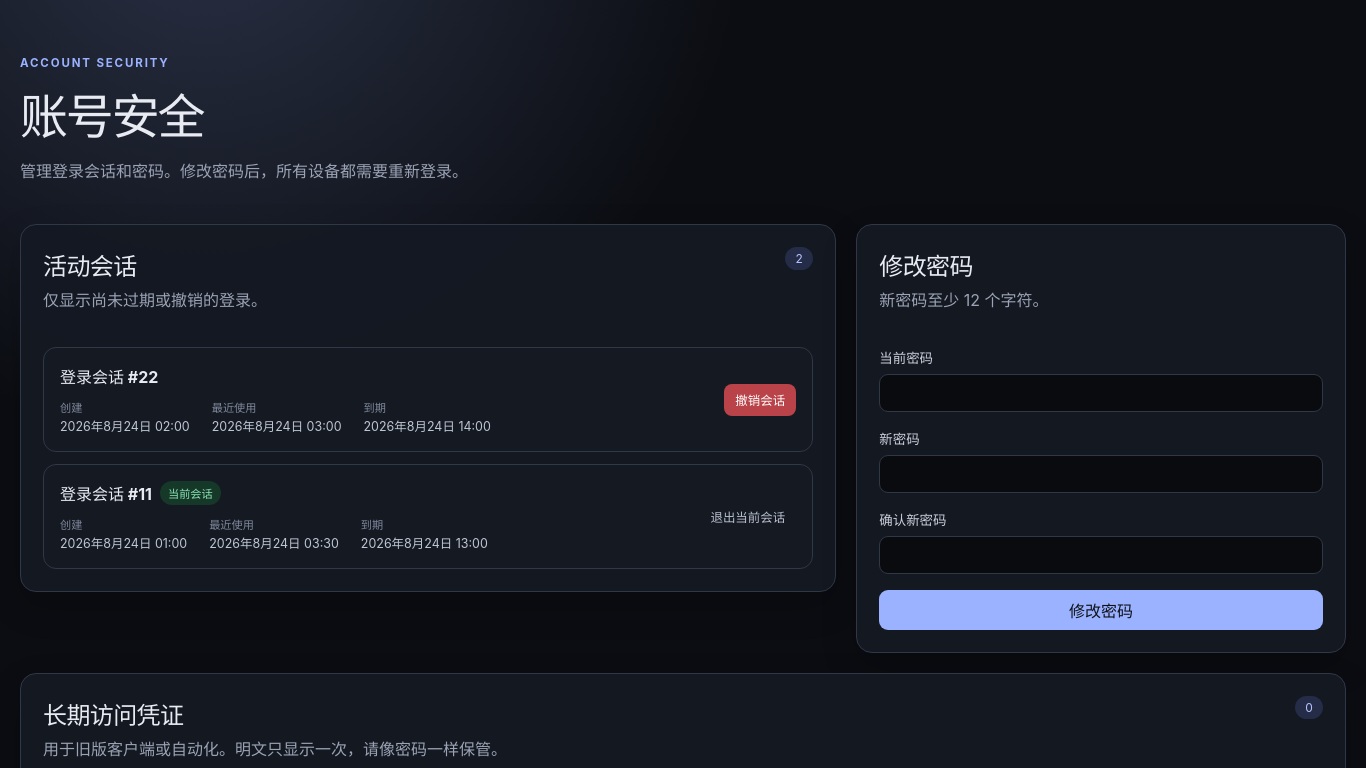
Test: AccountSecurityPage › lists active sessions and revokes another session without signing out the current one
Expected: the text "当前会话" is shown, [160,481,221,505]
Click the button "撤销会话".
click(760, 400)  # box [724,384,796,416]
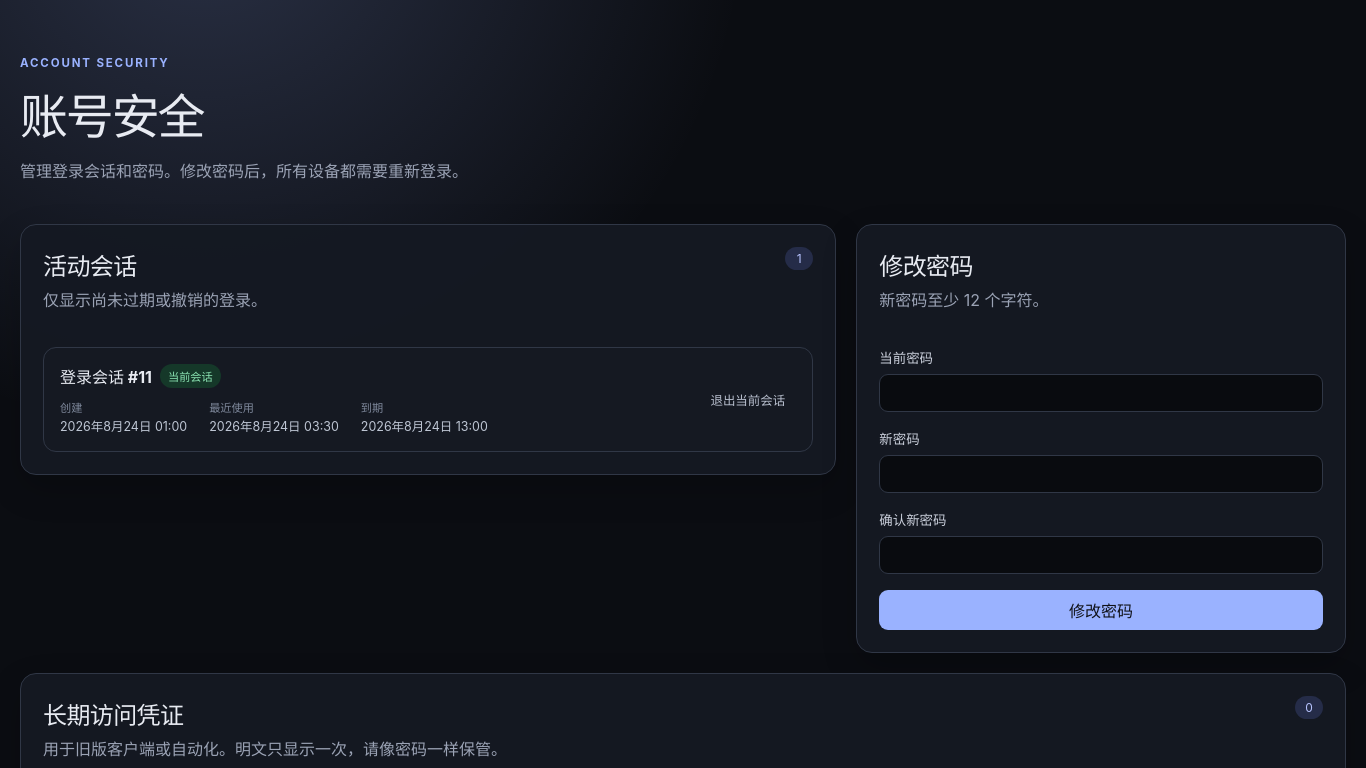
Expected: the element with test id "account-session-11" is shown, [43,347,813,452]
Now the element with test id "account-session-22" is gone
